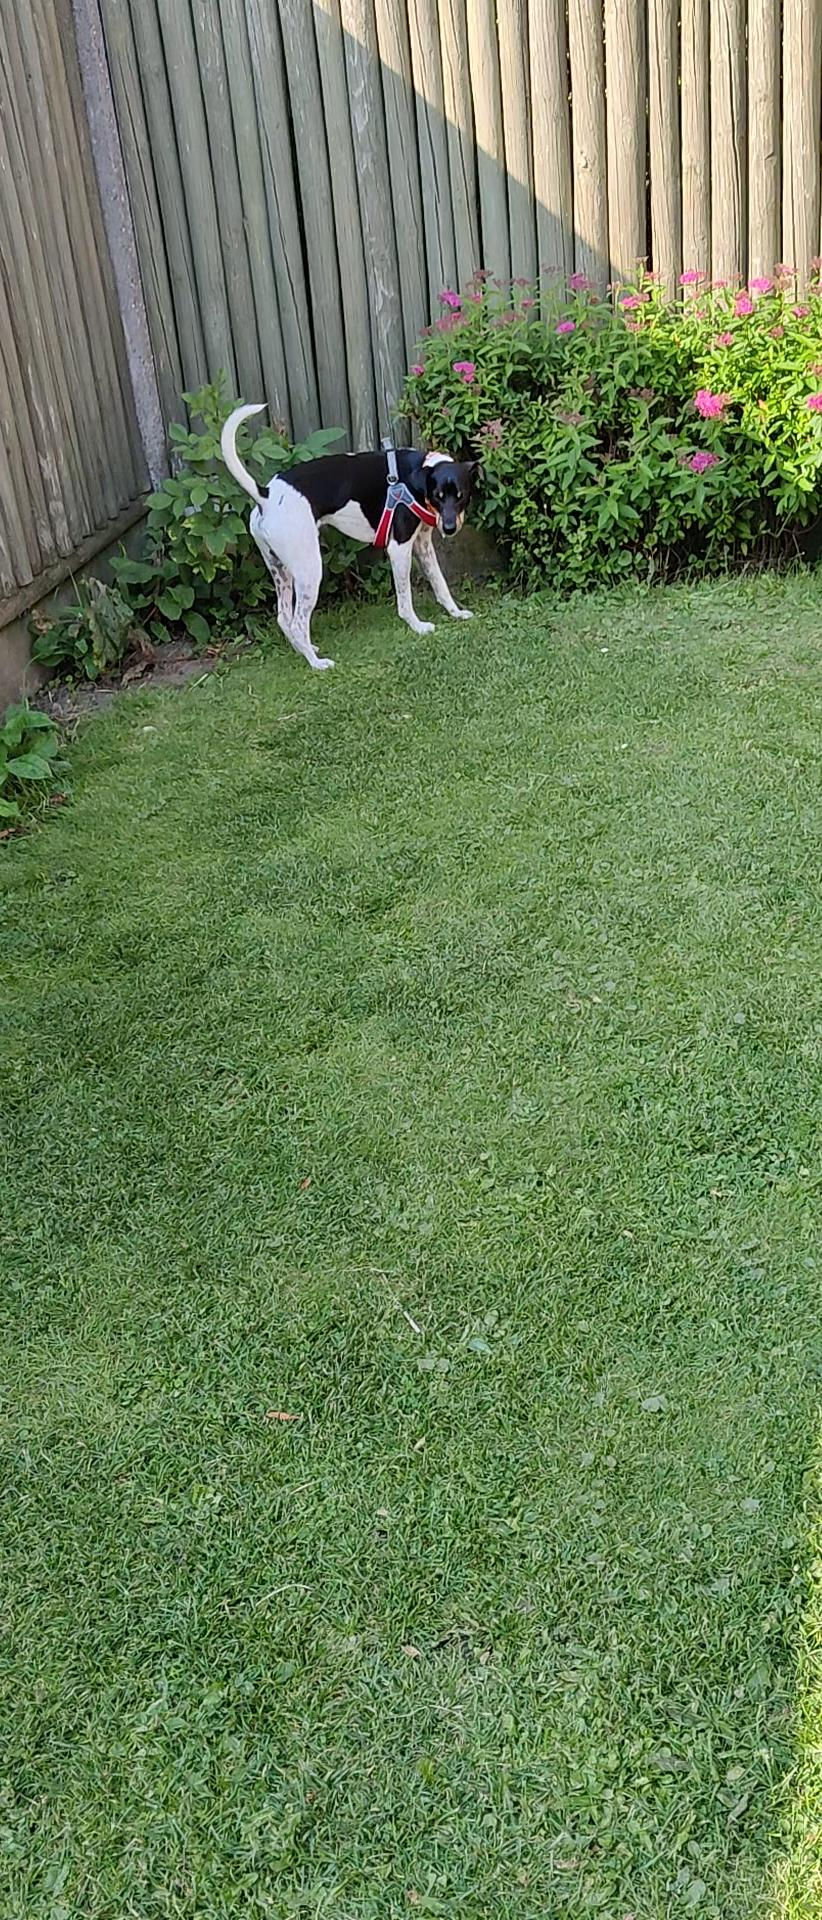Dog: (209, 388, 501, 680)
